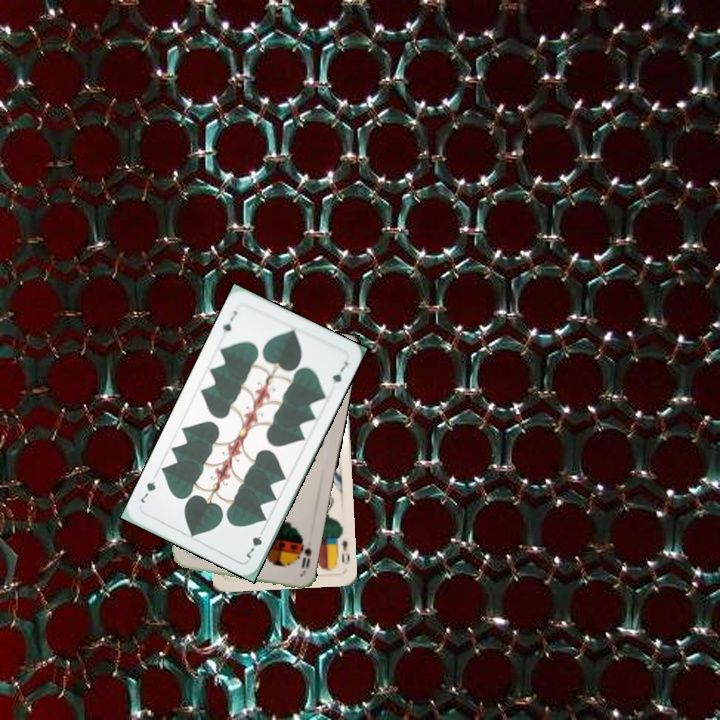EO: (337, 536, 352, 567)
G7: (241, 524, 268, 561), (219, 306, 239, 335)
SO: (295, 534, 314, 574)
